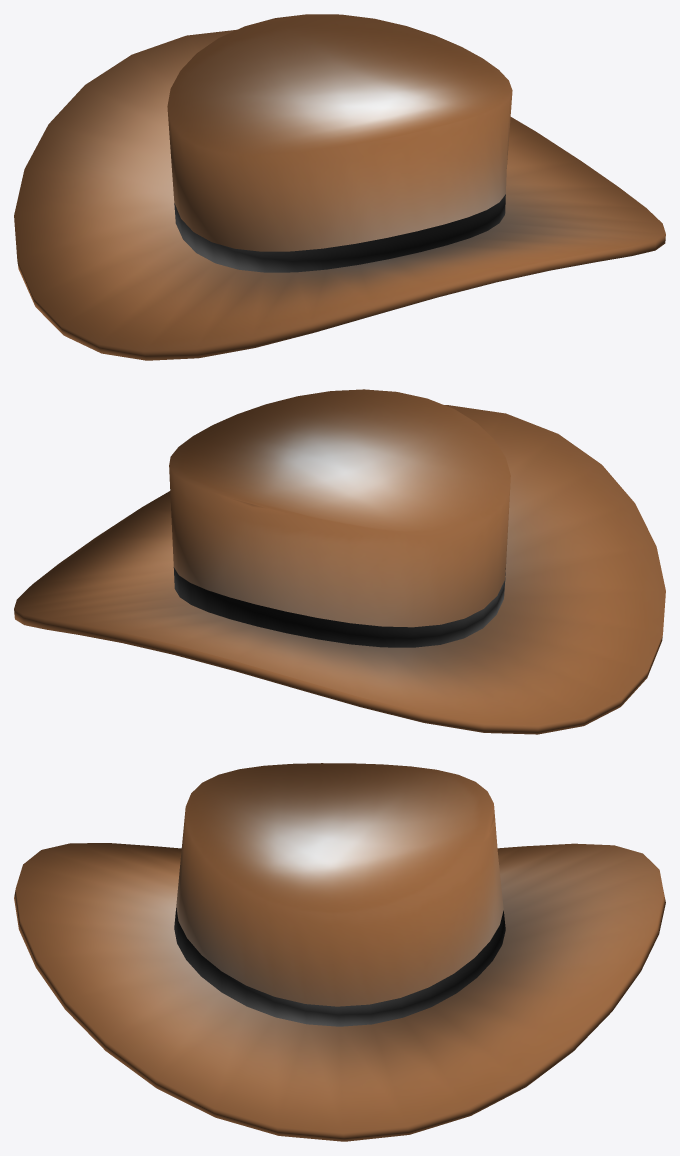
Rendered from Cowboy_MArron.fbx.
The picture shows the model from 3 angles, top to bottom: view 1: azimuth 30°, elevation 25°; view 2: azimuth 150°, elevation 25°; view 3: azimuth 270°, elevation 25°; orthographic projection.
Parts seen in each view (by area): view 1: Circle; view 2: Circle; view 3: Circle.
Part boxes in pixels (left/top/right/bottom): Circle: left=14, top=14, right=665, bottom=360; Circle: left=14, top=389, right=665, bottom=734; Circle: left=14, top=763, right=665, bottom=1141.
Size of the model in its own units: 198 by 63.91 by 197.
